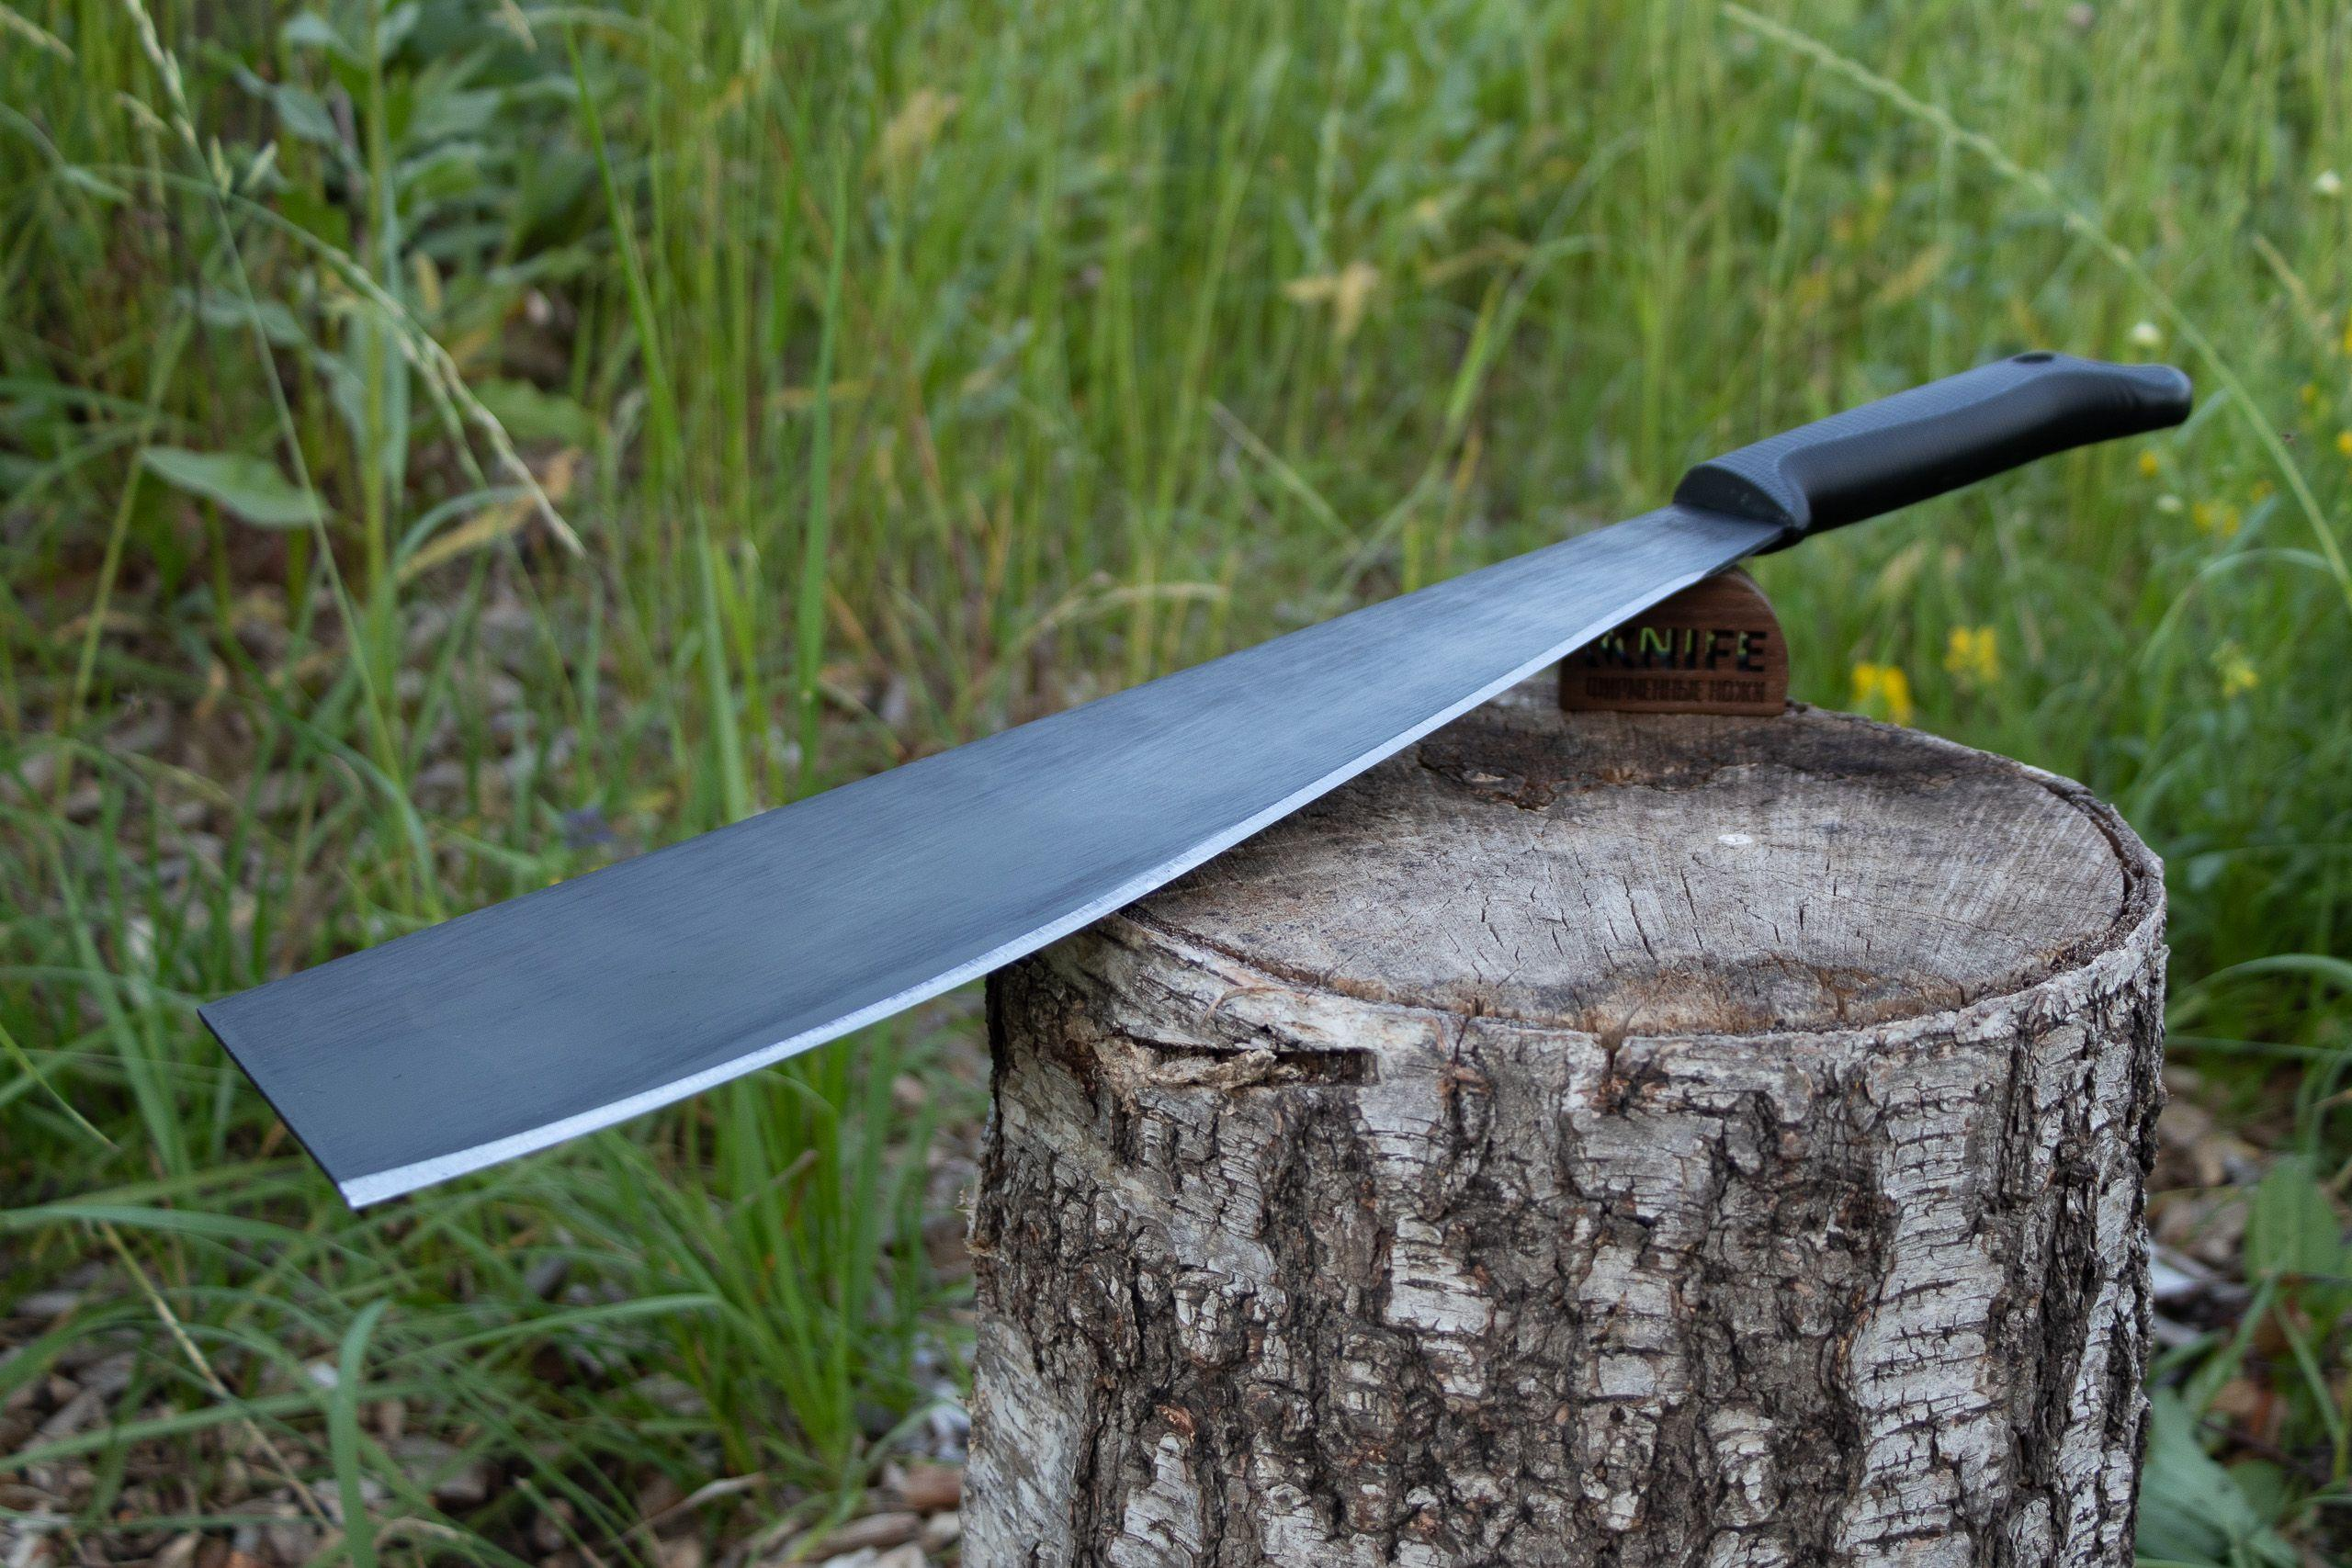facao: (212, 347, 2194, 1211)
